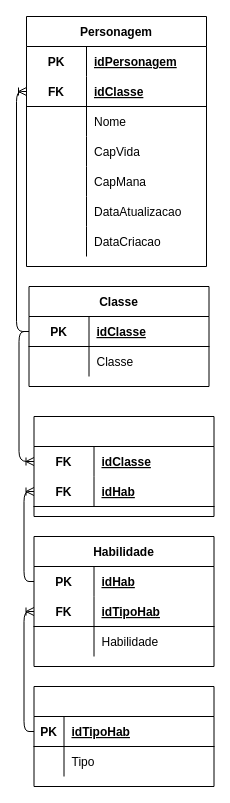
The diagram is 230 pixels wide and 803 high, and some of its shapes have lost their labels. The box of each missing label's shape, as (x1, y1, x2, y2) in pixels:
ClasseHabilidade: (33, 416, 214, 516)
TipoDeHabilidade: (33, 686, 214, 786)
